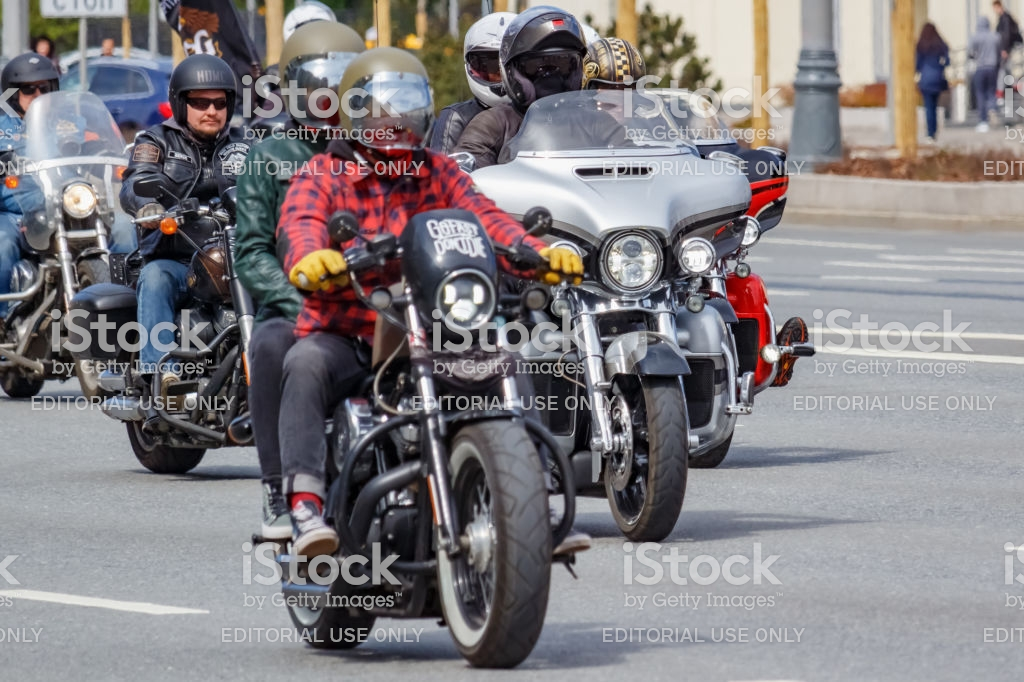helmet: (495, 11, 597, 104), (342, 62, 440, 143), (278, 20, 363, 109), (457, 9, 518, 109), (171, 52, 243, 107)
